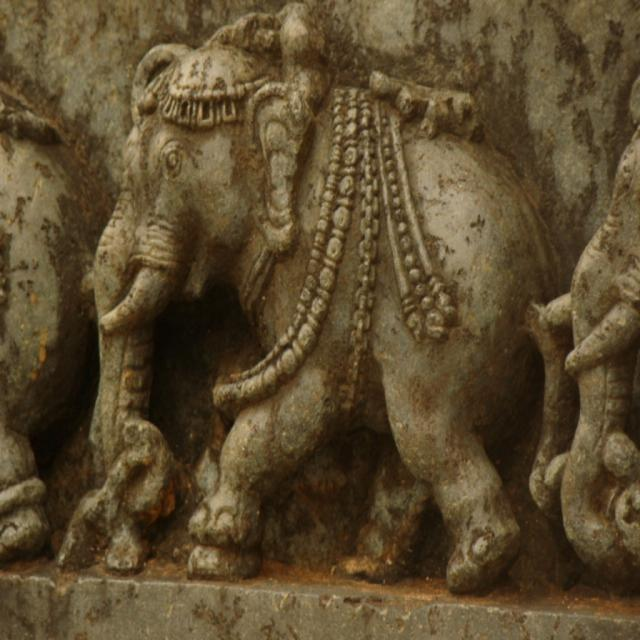elephant: (18, 26, 595, 612), (0, 61, 100, 556), (570, 124, 638, 578)
